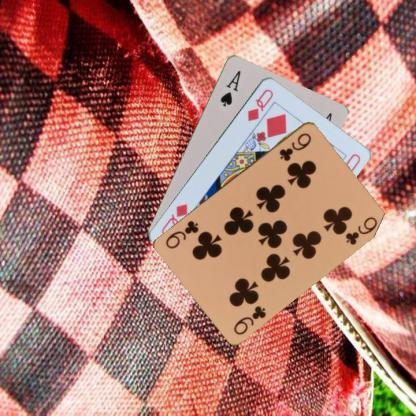9c: (230, 302, 268, 336), (276, 129, 313, 162)
As: (217, 68, 242, 108)
Qd: (244, 86, 274, 122)
